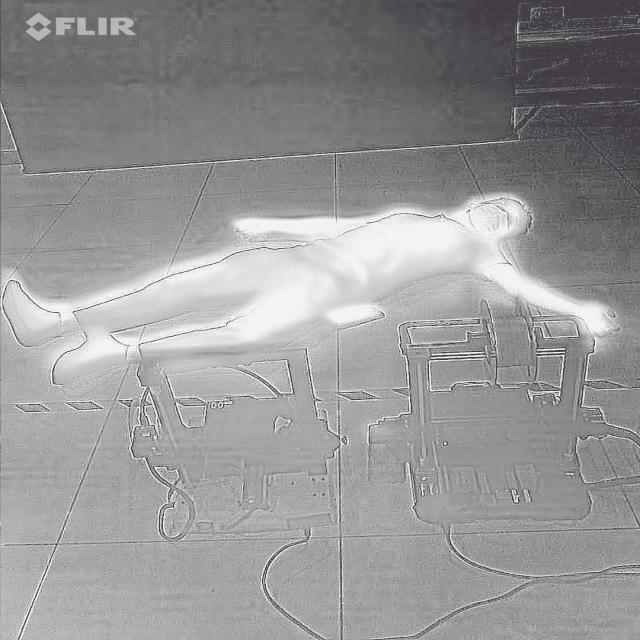Victim: (0, 192, 626, 398)
